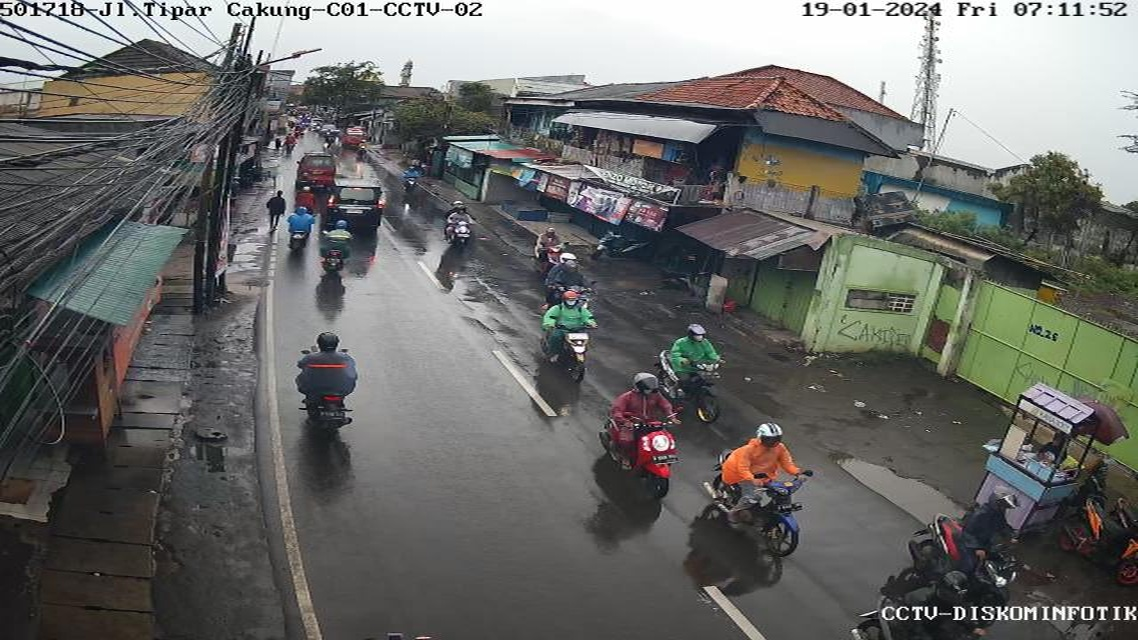Gerobak: (976, 372, 1102, 542), (14, 319, 160, 465)
